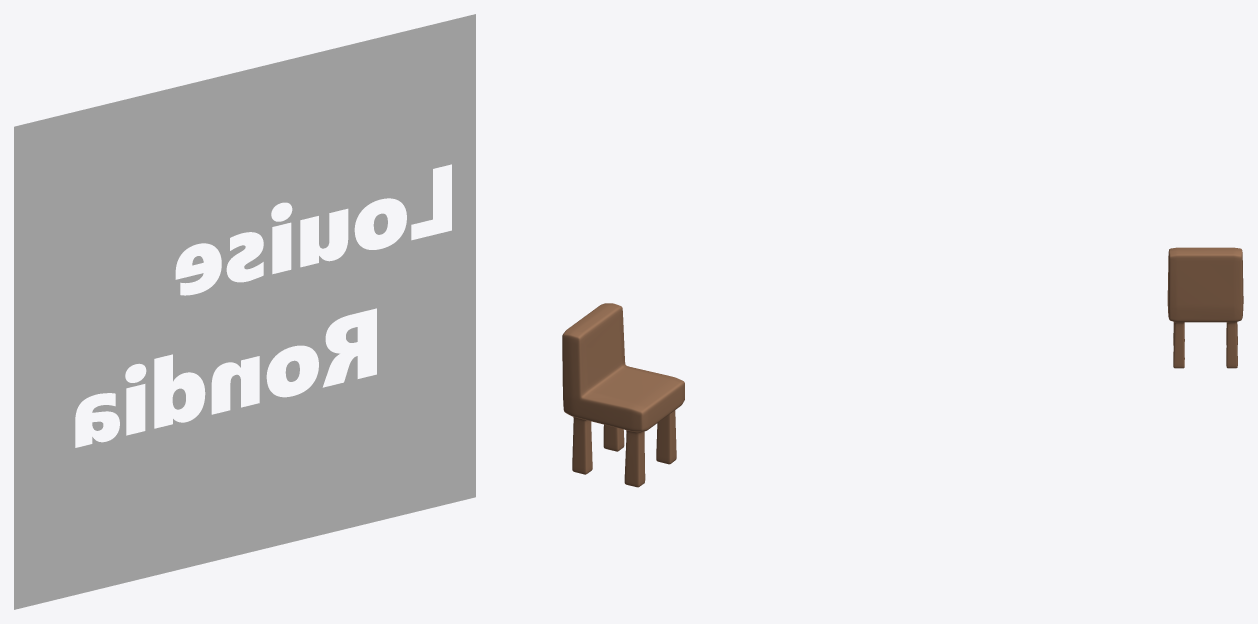
The model's file is chair.glb.
The picture shows the model from 3 angles, left to right: view 1: azimuth 30°, elevation 25°; view 2: azimuth 150°, elevation 25°; view 3: azimuth 270°, elevation 25°; orthographic projection. The views are drawn at different scales.
Parts seen in each view (by area): view 1: Plane.001; view 2: chair; view 3: chair.
Boxes of the visible parts, box(x1,y1,x2,y2) form: Plane.001: box(14, 14, 475, 609); chair: box(562, 303, 684, 487); chair: box(1167, 247, 1243, 368).
Bounding box in the file's own units: 2.8 × 2.8 × 1.56.
